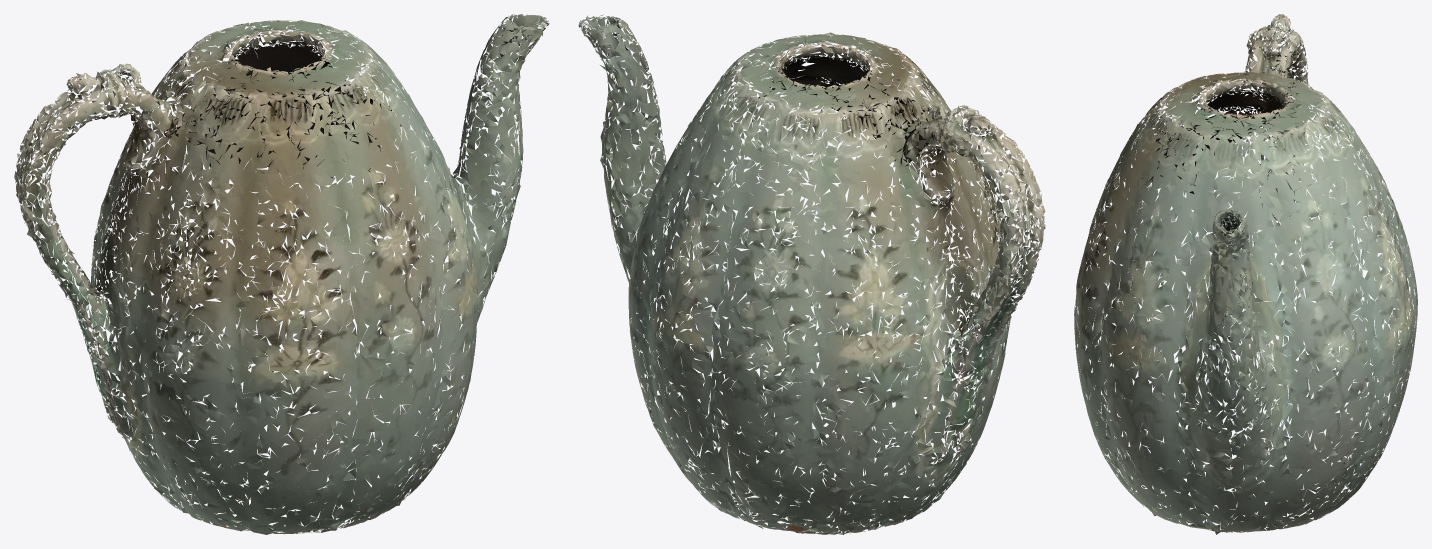
Rendered from pitcher.glb.
The picture shows the model from 3 angles, left to right: view 1: azimuth 30°, elevation 25°; view 2: azimuth 150°, elevation 25°; view 3: azimuth 270°, elevation 25°; orthographic projection. The views are drawn at different scales.
Parts seen in each view (by area): view 1: Object_2; view 2: Object_2; view 3: Object_2.
Part boxes in pixels (x1,y1,x2,y2): Object_2: [14, 14, 549, 534]; Object_2: [578, 14, 1045, 534]; Object_2: [1074, 14, 1417, 534].
Size of the model in its own units: 0.2216 by 0.188 by 0.1477.
Materials: 1 (1 with a texture image).
